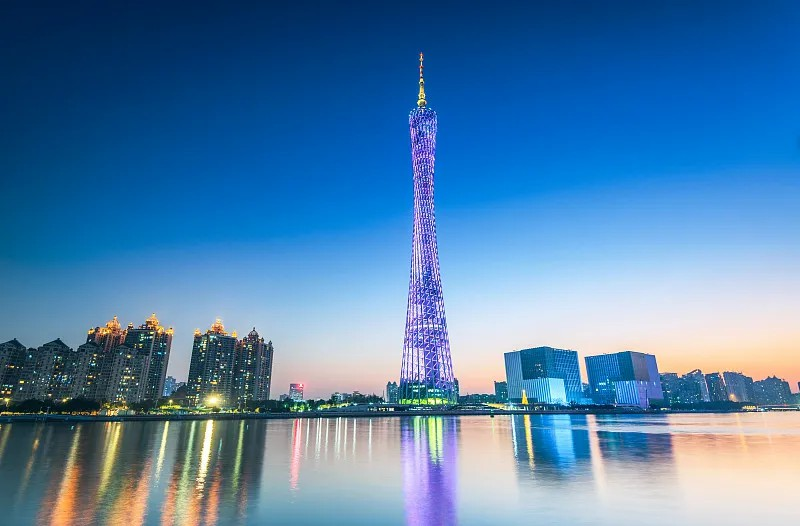Canton: (400, 49, 458, 404)
